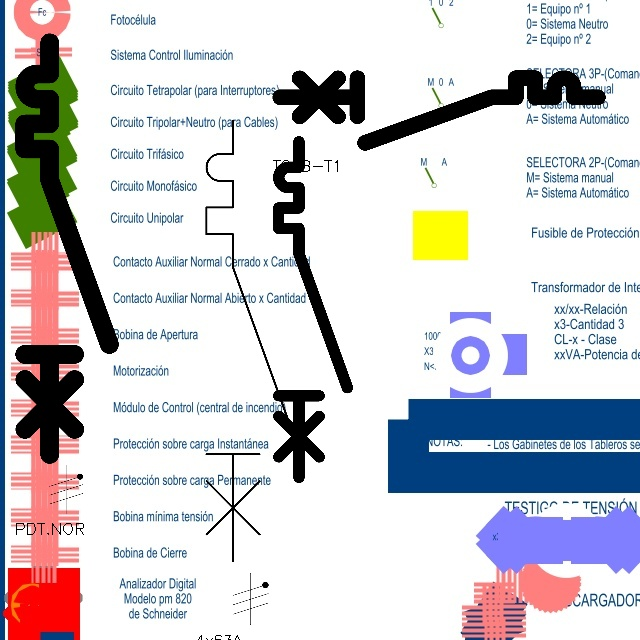interruptor_termomagnetico: (195, 109, 308, 572), (14, 32, 120, 465), (270, 133, 356, 486), (272, 70, 606, 151)
